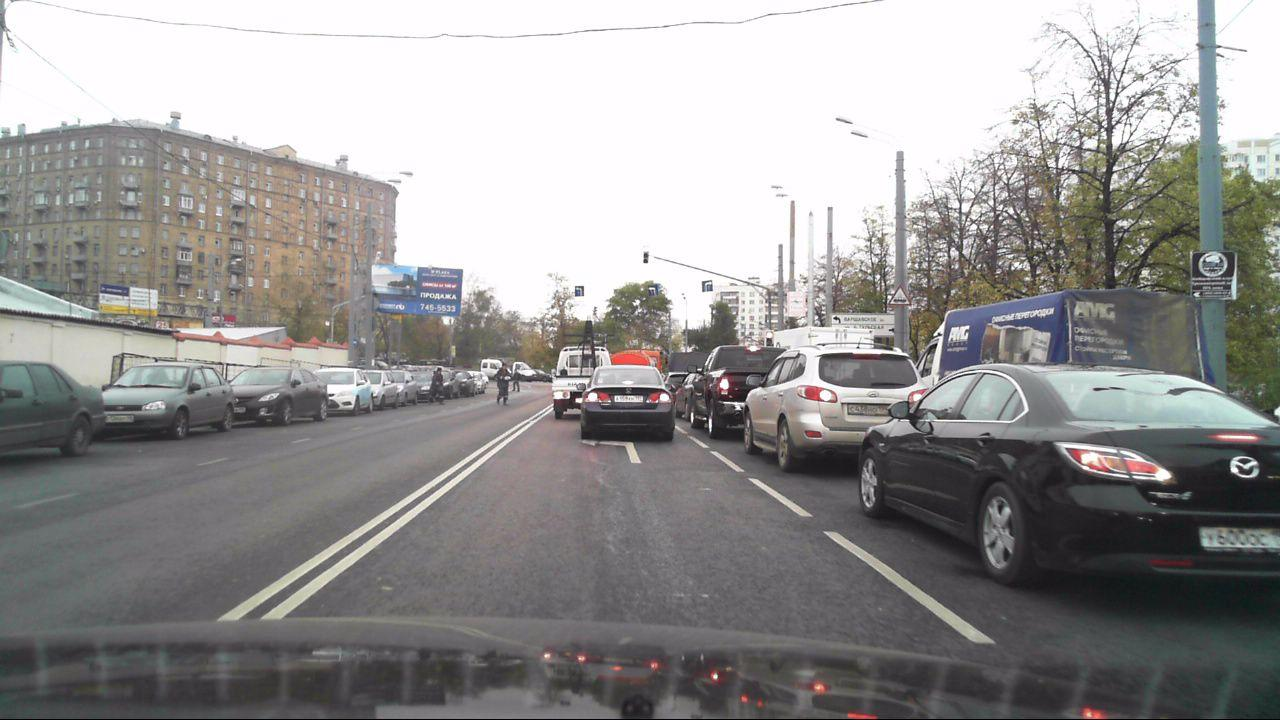1_5: (888, 285, 912, 307)
5_15_2: (702, 278, 714, 293), (574, 286, 585, 297), (648, 283, 658, 295)
